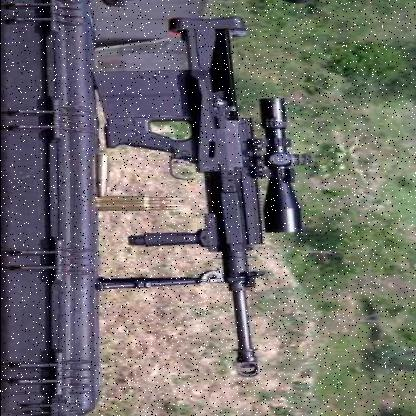rifle: (74, 4, 359, 388)
